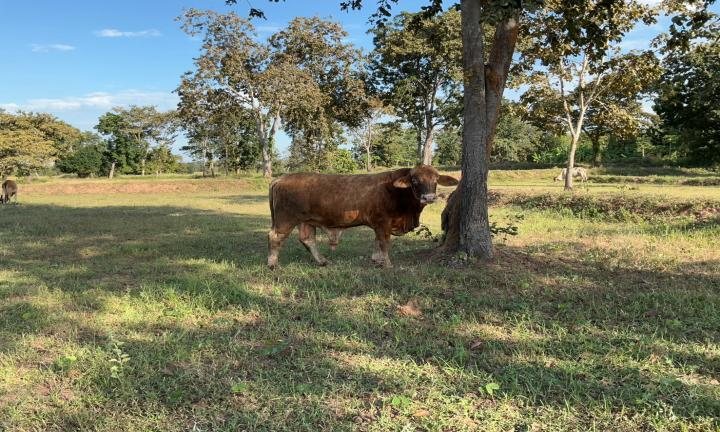Charolais: (269, 165, 458, 268)
